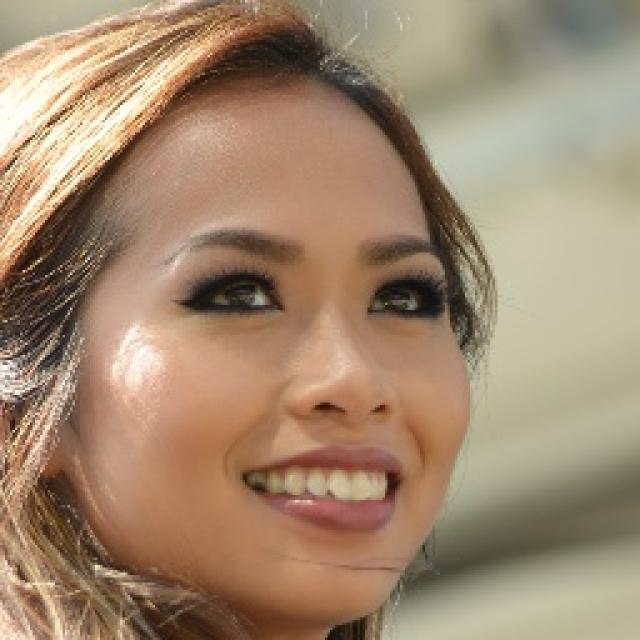earlobe: (18, 431, 66, 478)
eye: (192, 273, 286, 315), (372, 280, 440, 320)
nose: (291, 406, 397, 443)
